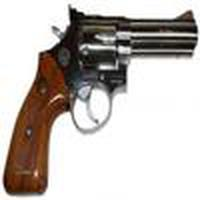gun: (5, 8, 200, 189)
